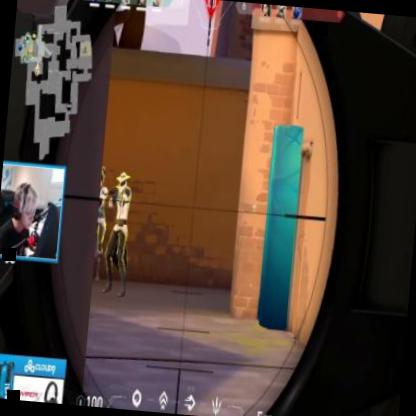enemy: (100, 171, 138, 298), (86, 162, 112, 283)
enemy_head: (118, 174, 127, 190), (97, 170, 105, 188)
